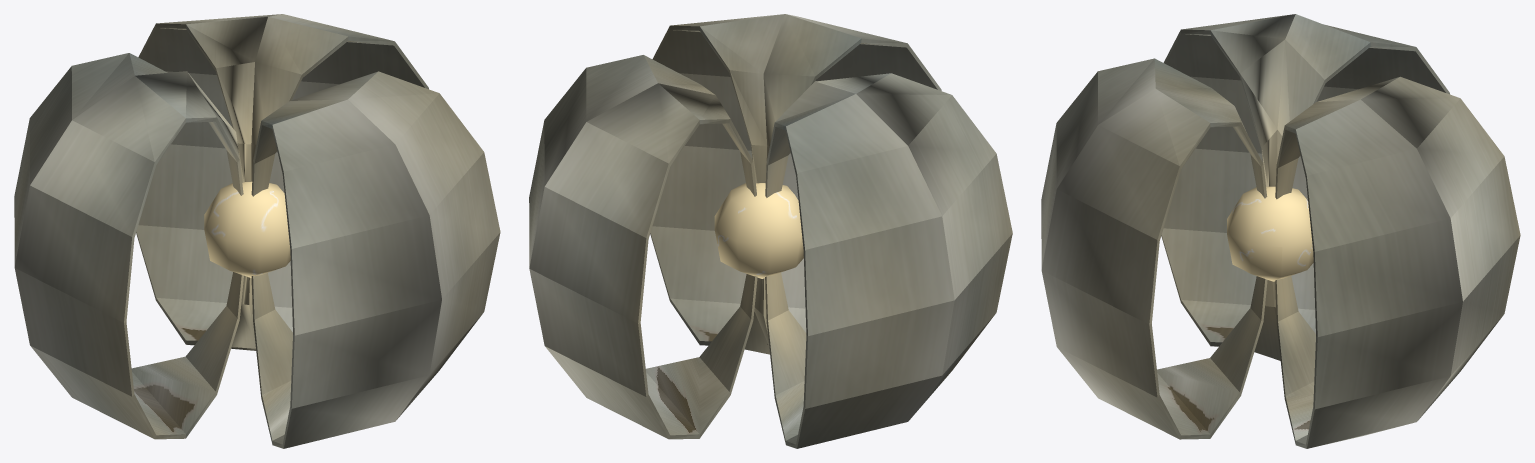
The model's file is model_pickup_NEW.FBX.
The picture shows the model from 3 angles, left to right: view 1: azimuth 30°, elevation 25°; view 2: azimuth 150°, elevation 25°; view 3: azimuth 270°, elevation 25°; orthographic projection.
Parts seen in each view (by area): view 1: Sphere002; view 2: Sphere002; view 3: Sphere002.
Boxes of the visible parts, x1,y1,x2,y2 form: Sphere002: [14, 14, 500, 448]; Sphere002: [529, 14, 1012, 448]; Sphere002: [1041, 14, 1520, 448].
Size of the model in its own units: 6.19 by 4.76 by 6.1.
Materials: 1 (1 with a texture image).
